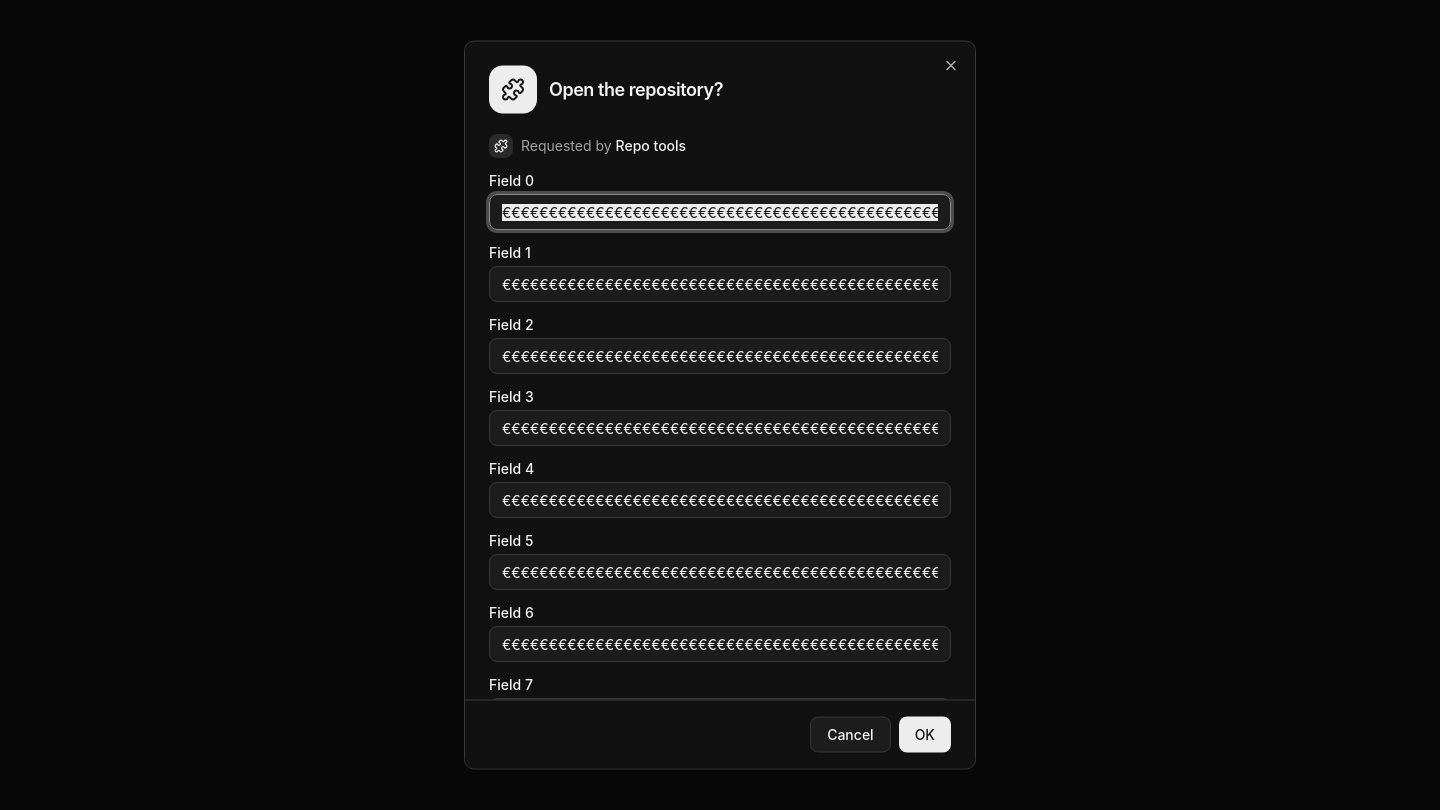
Test: the plugin dialog host › refuses an answer too large for the agent before sending it
Click the button "OK": click(925, 734) top-left (899, 716), bottom-right (951, 752)
(page scrolled)
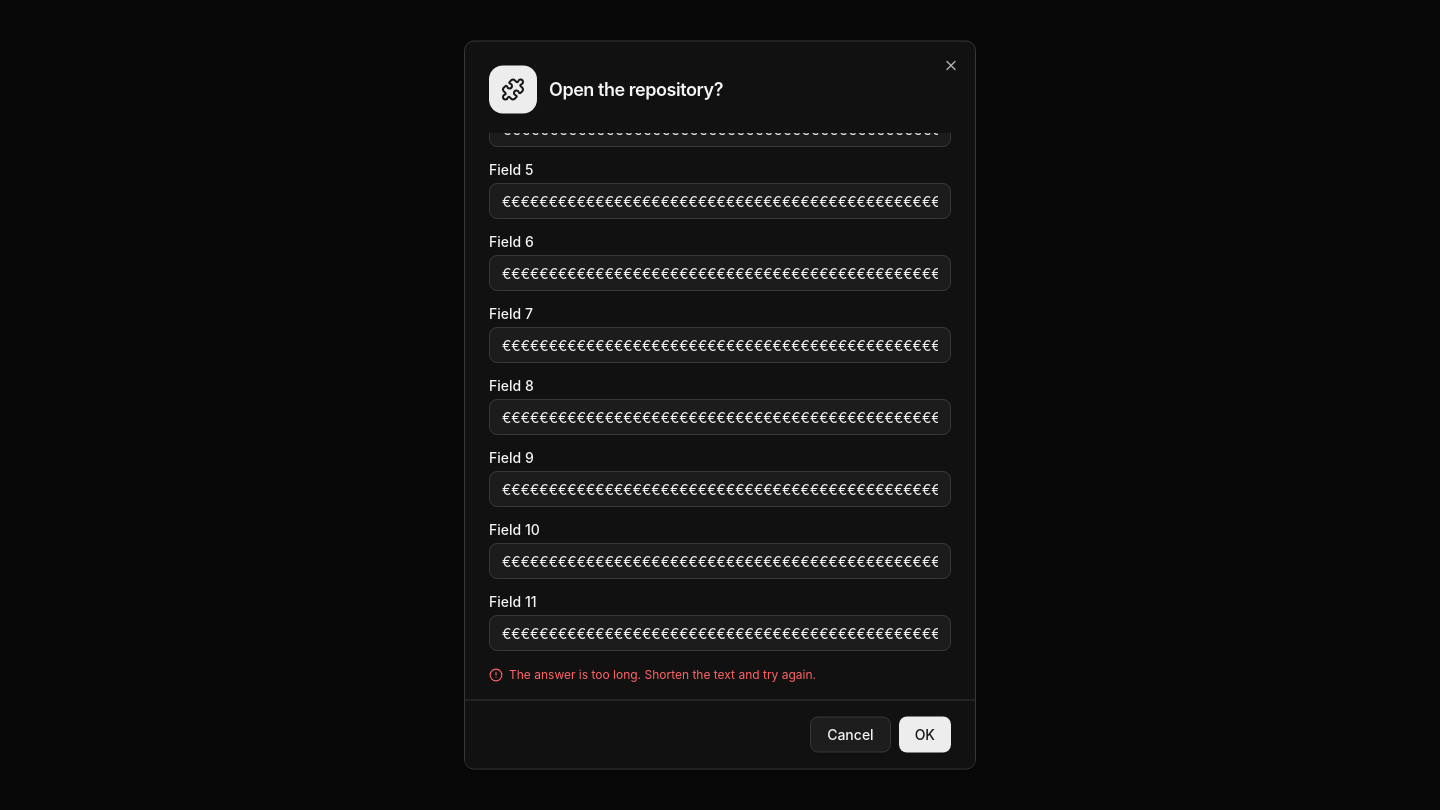
Result: the text "The answer is too long. Shorten the text and try again." is shown at top-left (509, 668), bottom-right (816, 684)
